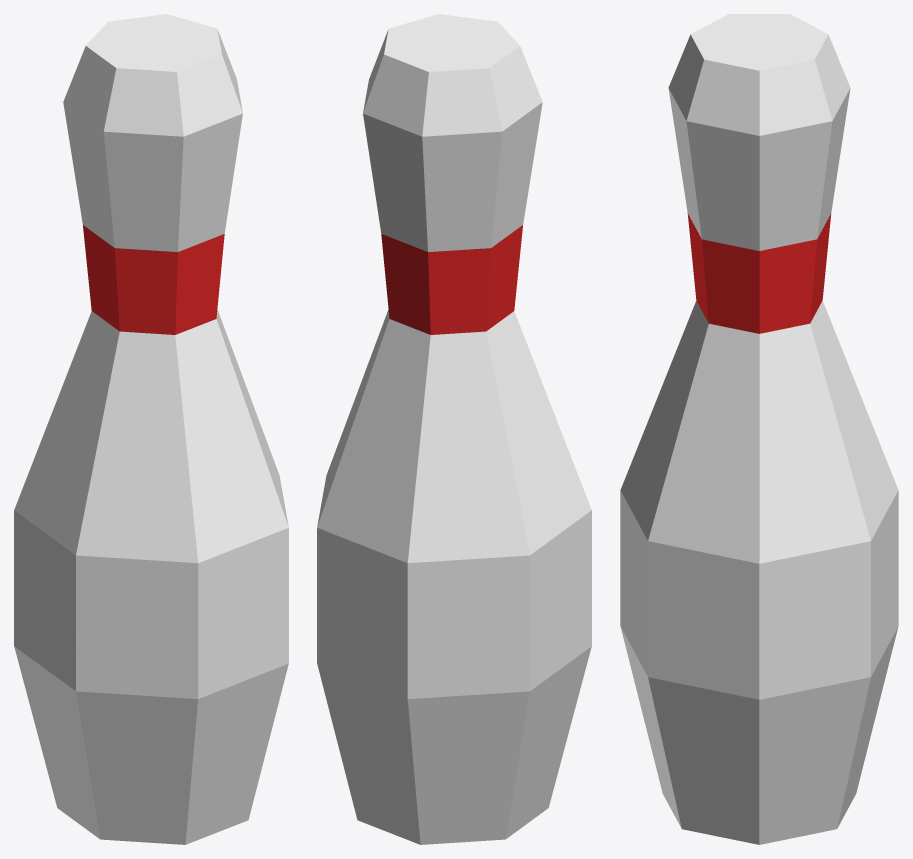
Rendered from Bowl.fbx.
The picture shows the model from 3 angles, left to right: view 1: azimuth 30°, elevation 25°; view 2: azimuth 150°, elevation 25°; view 3: azimuth 270°, elevation 25°; orthographic projection.
Parts seen in each view (by area): view 1: Bowl; view 2: Bowl; view 3: Bowl.
Part boxes in pixels (x1,y1,x2,y2): Bowl: [14, 14, 288, 844]; Bowl: [317, 14, 591, 844]; Bowl: [620, 14, 898, 844].
Size of the model in its own units: 11.27 by 34.95 by 11.56.
